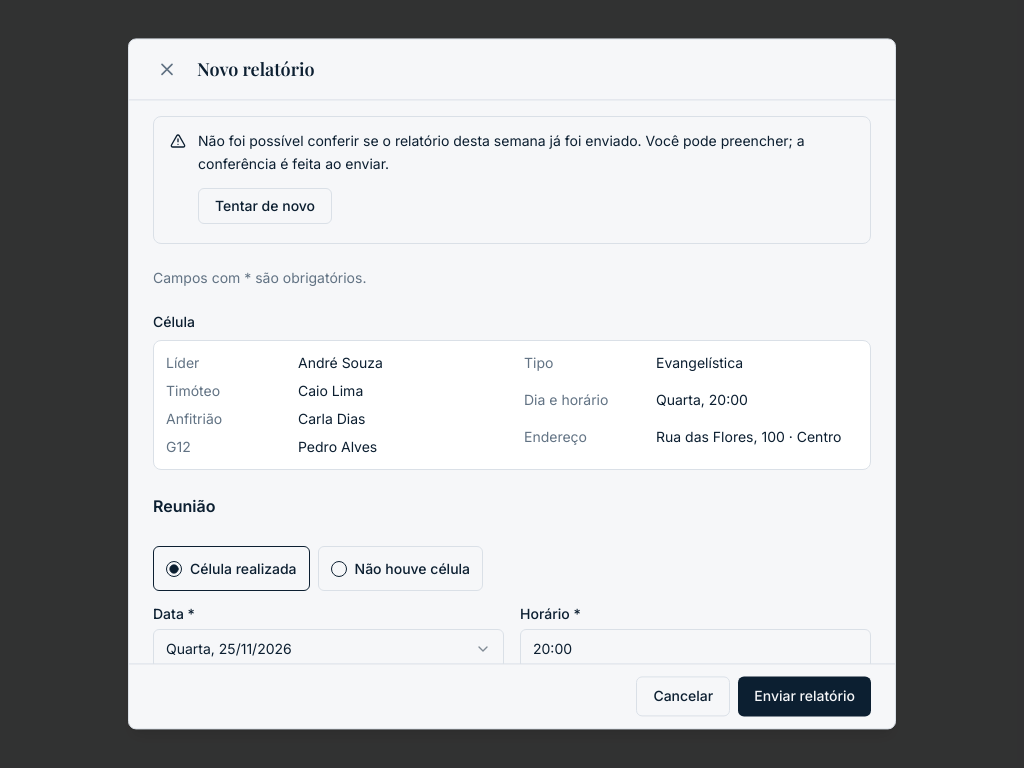
Test: UXD-4, UX-12: sem conexão › a conferência que falha libera os campos, e o 'Tentar de novo' bem-sucedido tira o aviso
Expected: the text "Não foi possível conferir se o relatório desta semana já foi enviado" is shown, [198,132,805,172]
Click the button "Tentar de novo" at (265, 206), box [198,188,332,224]
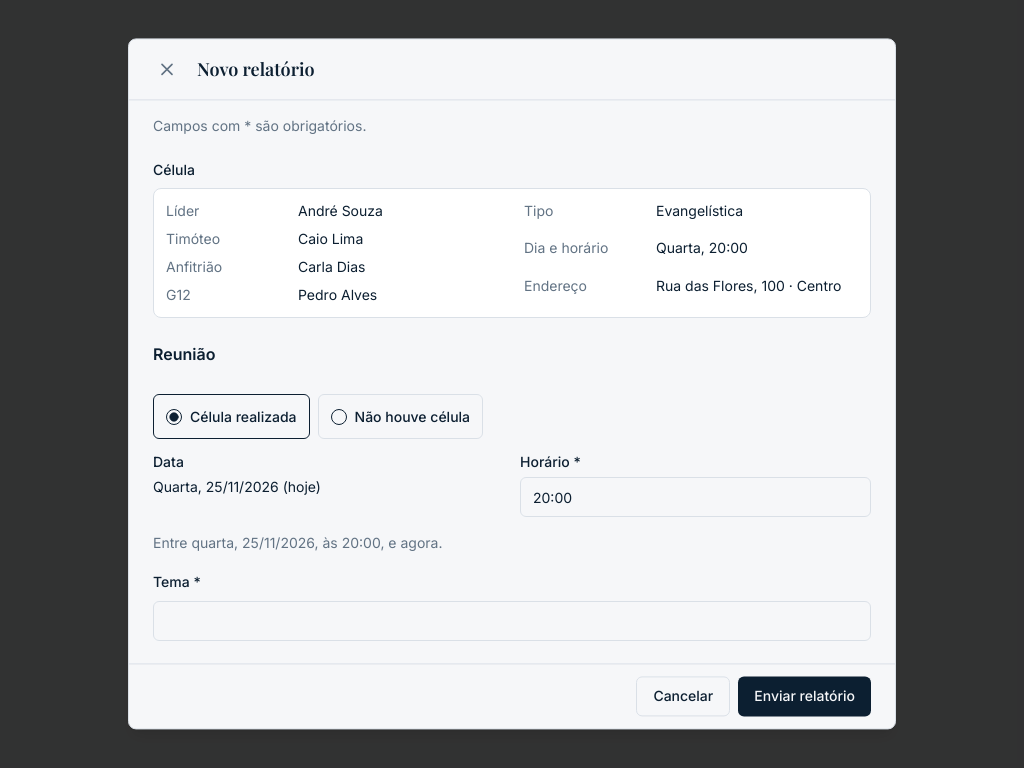
Now the text "Não foi possível conferir" is gone
Now the field labelled "Tema *" is shown, box [153,602,871,642]
